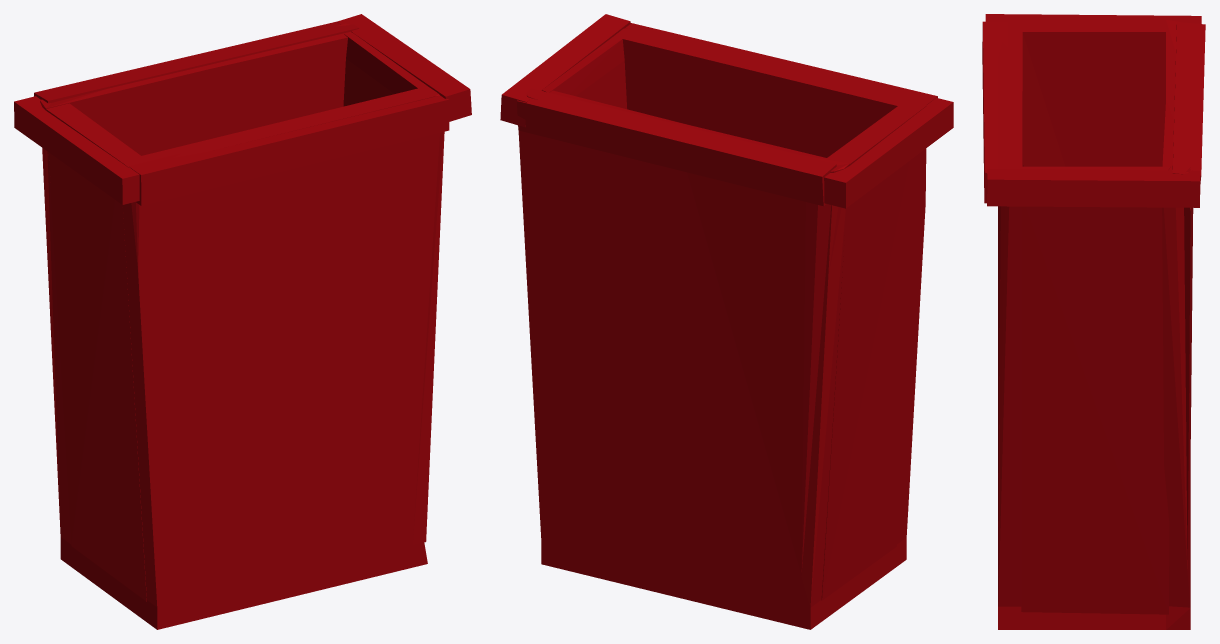
The model's file is bin_red.glb.
3 renders of one model, left to right at view 1: azimuth 30°, elevation 25°; view 2: azimuth 150°, elevation 25°; view 3: azimuth 270°, elevation 25°, orthographic.
Visible parts, largest first — view 1: group954169556.001; view 2: group954169556.001; view 3: group954169556.001.
Part boxes in pixels (x1,y1,x2,y2): group954169556.001: (14, 14, 471, 629); group954169556.001: (500, 14, 953, 629); group954169556.001: (982, 14, 1205, 629).
Bounding box in the file's own units: 2.66 × 3.41 × 1.48.
